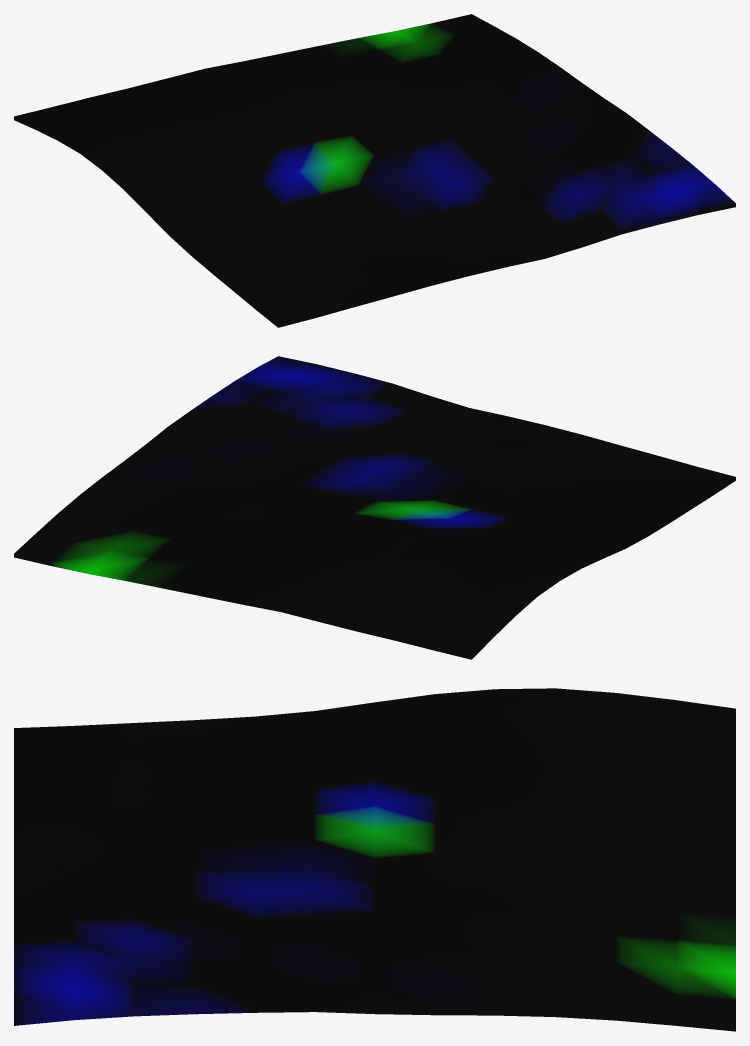
The model's file is coast_18_0.glb.
3 views of the same model, one above another, from view 1: azimuth 30°, elevation 25°; view 2: azimuth 150°, elevation 25°; view 3: azimuth 270°, elevation 25° (orthographic). The views are drawn at different scales.
Parts seen in each view (by area): view 1: terrain; view 2: terrain; view 3: terrain.
Boxes of the visible parts, x1,y1,x2,y2 form: terrain: (14,14,735,327); terrain: (14,356,735,659); terrain: (14,688,735,1031).
Size of the model in its own units: 192 by 13.32 by 192.
